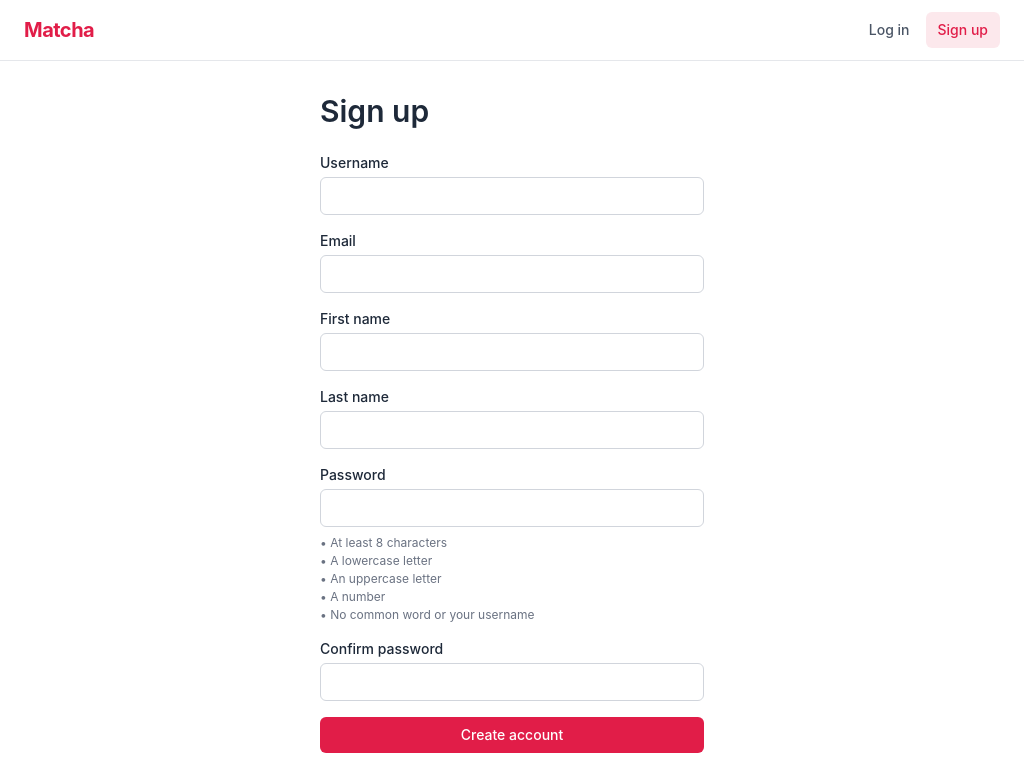
Test case: register form › posts valid input to /api/register and goes to the check-email page
Type "alice" into the field labelled "Username".
click(512, 196); type("alice")  # box [320,177,704,215]
Type "alice@example.com" into the field labelled "Email".
click(512, 274); type("alice@example.com")  # box [320,255,704,293]
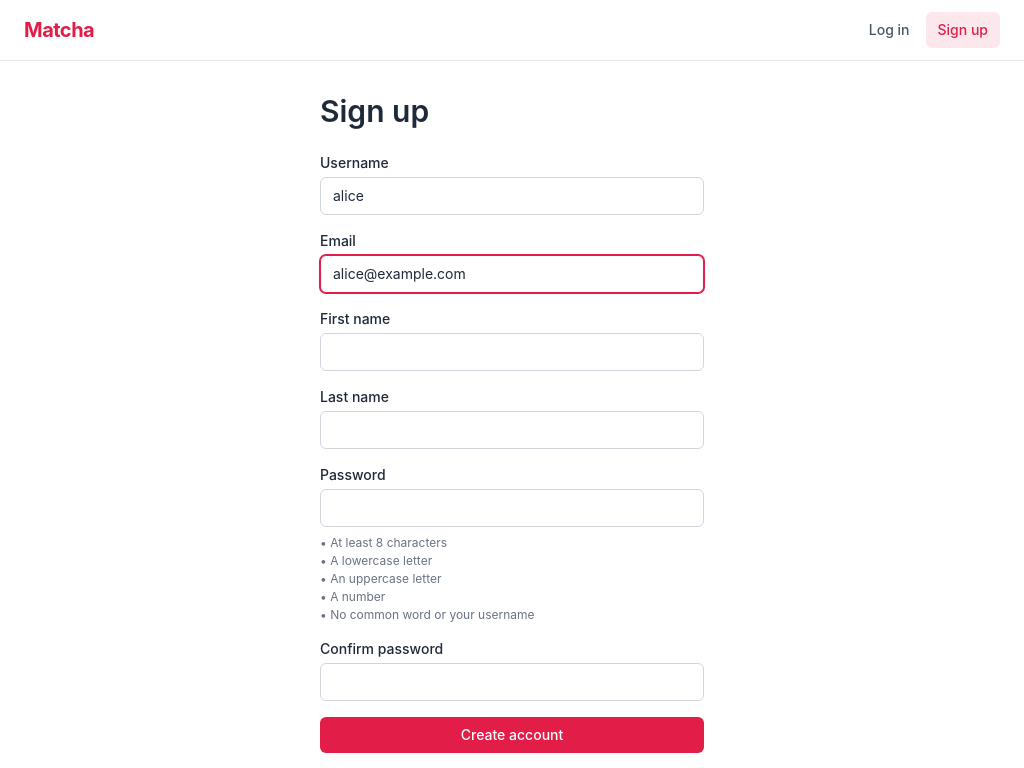
Type "Alice" into the field labelled "First name".
click(512, 352); type("Alice")  # box [320,333,704,371]
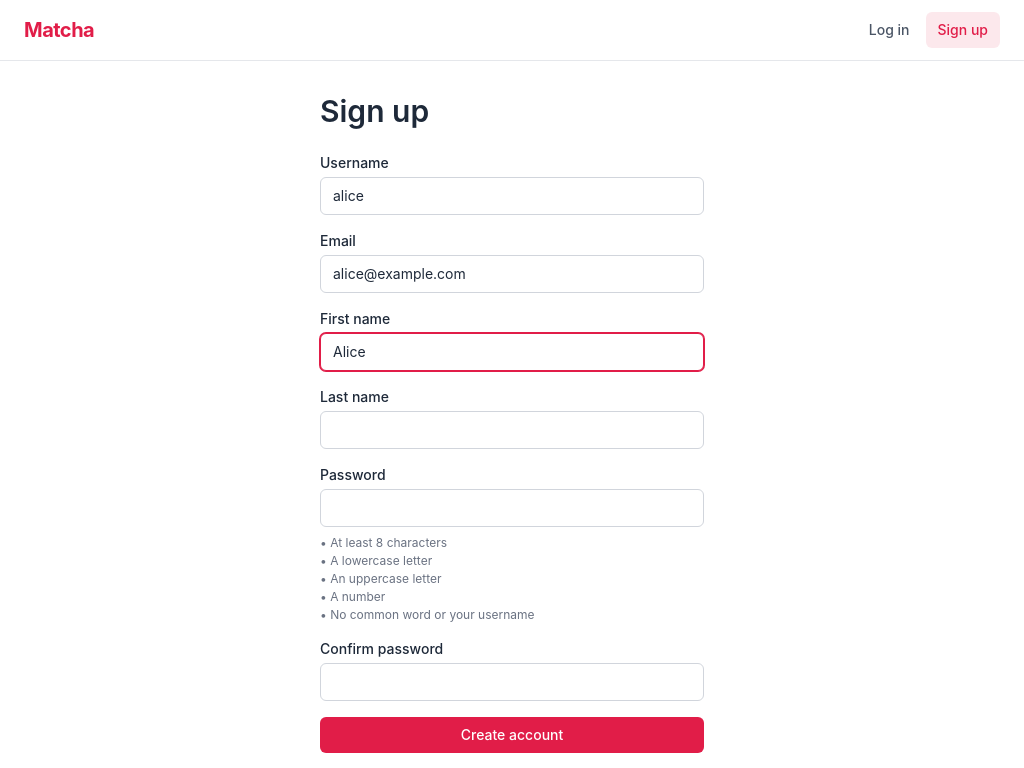
Type "Liddell" into the field labelled "Last name".
click(512, 430); type("Liddell")  # box [320,411,704,449]
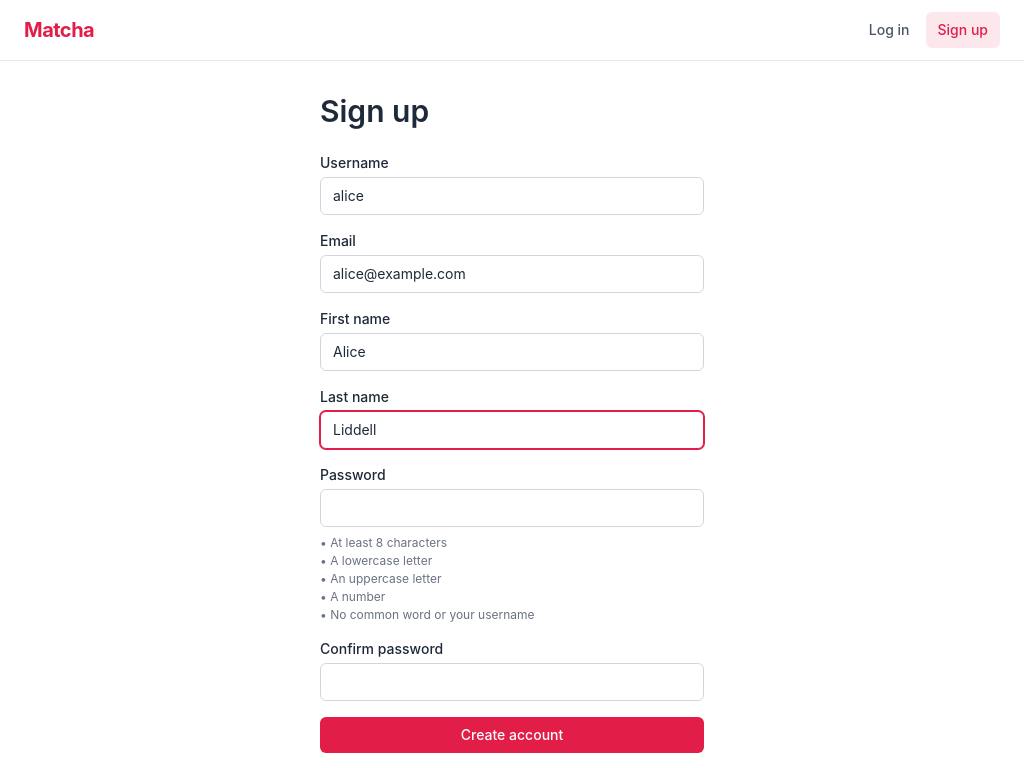
Type "Wonder1and" into the password field labelled "Password".
click(512, 508); type("Wonder1and")  # box [320,489,704,527]
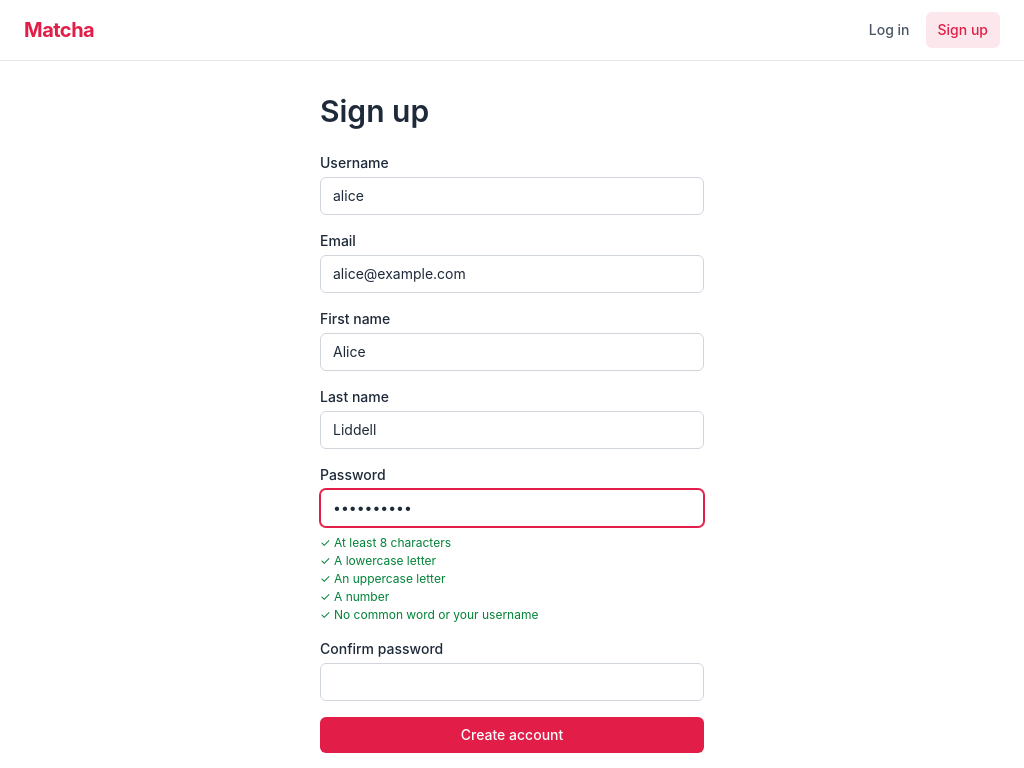
Type "Wonder1and" into the password field labelled "Confirm password".
click(512, 682); type("Wonder1and")  # box [320,663,704,701]
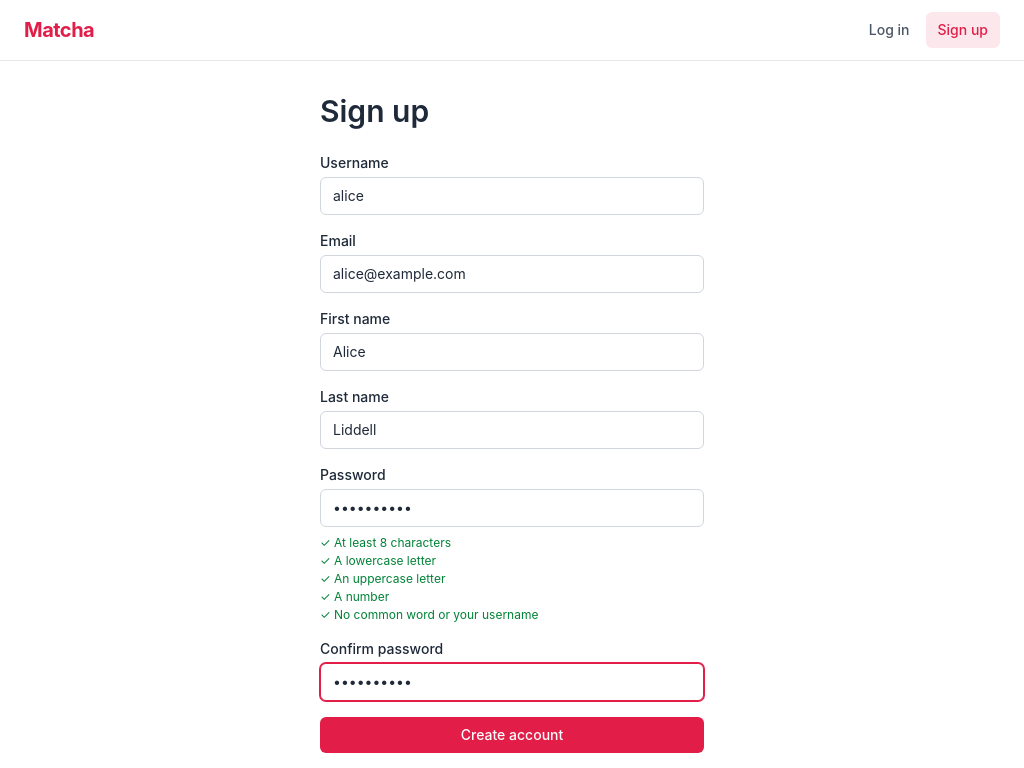
Click the button "Create account".
click(512, 735)  # box [320,717,704,753]
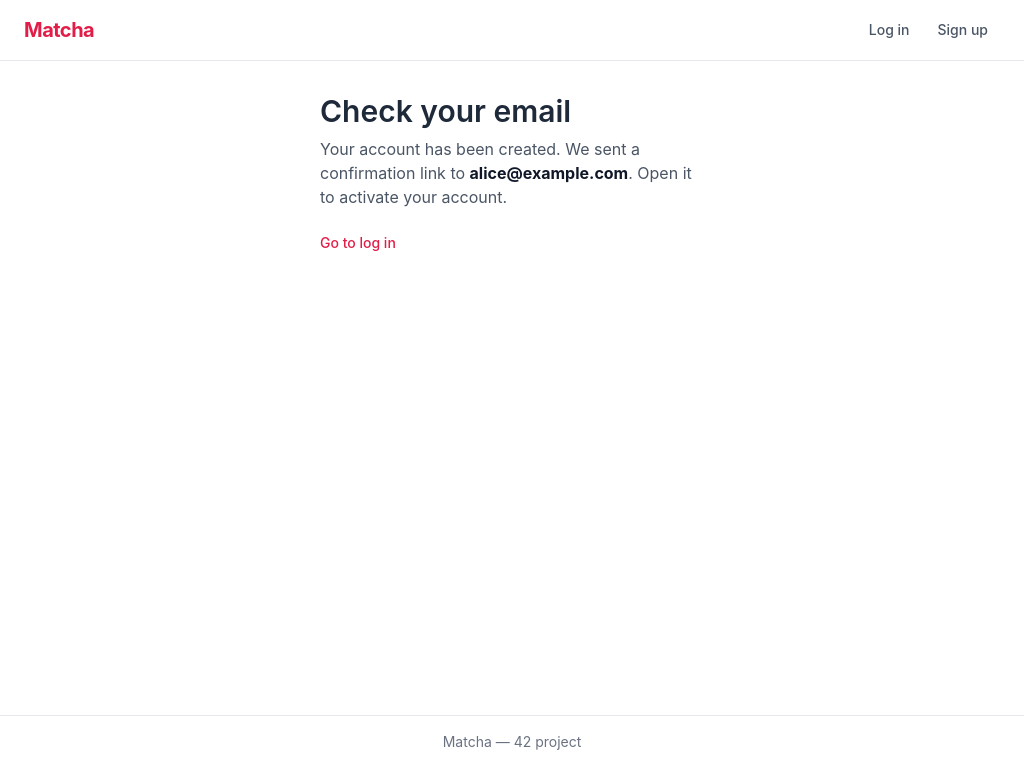
Expected: the heading "Check your email" is shown, [320,93,571,129]
Expected: the text "alice@example.com" is shown, [470,163,628,183]
